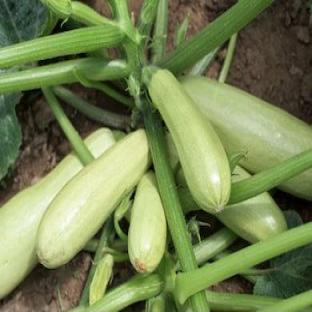Zucchini: (37, 130, 151, 267), (181, 77, 311, 172), (0, 154, 83, 298), (148, 70, 231, 213), (128, 172, 166, 273), (215, 192, 287, 242)
